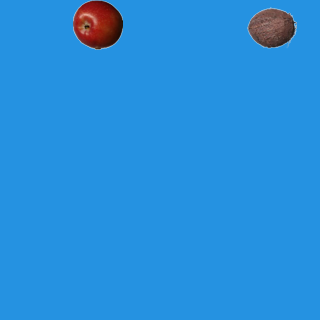Apple Braeburn: (72, 0, 122, 49)
Cocos: (246, 2, 296, 52)
